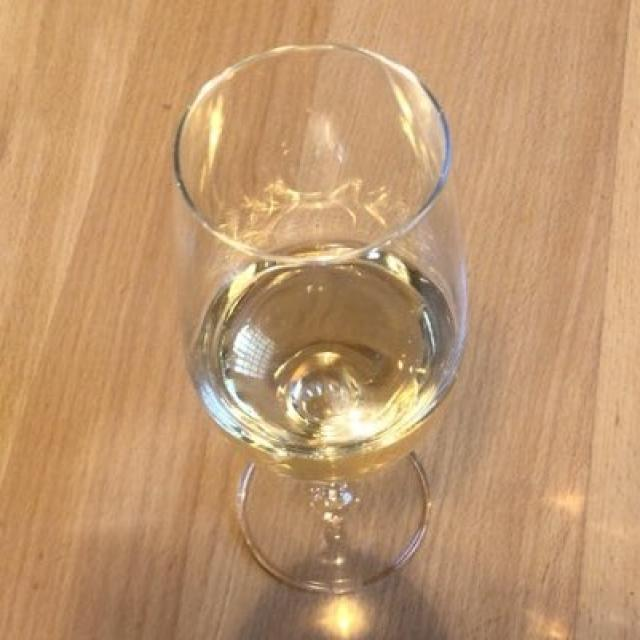wine: (195, 238, 458, 472)
